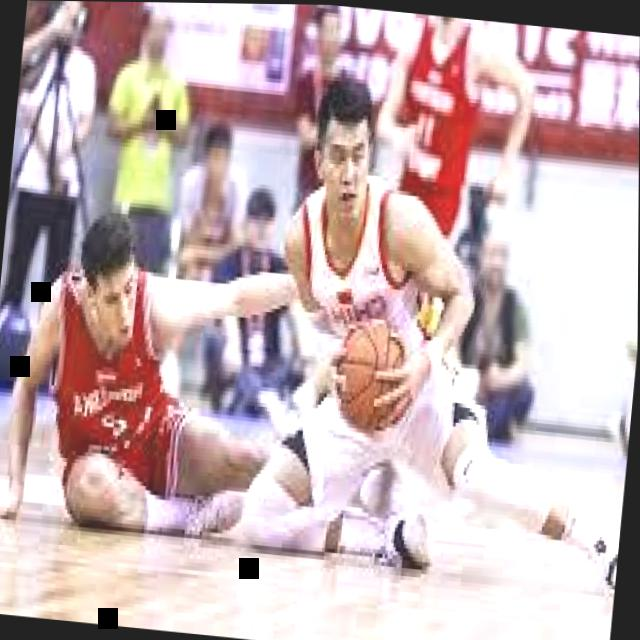Fall-Detected: (0, 178, 304, 546)
